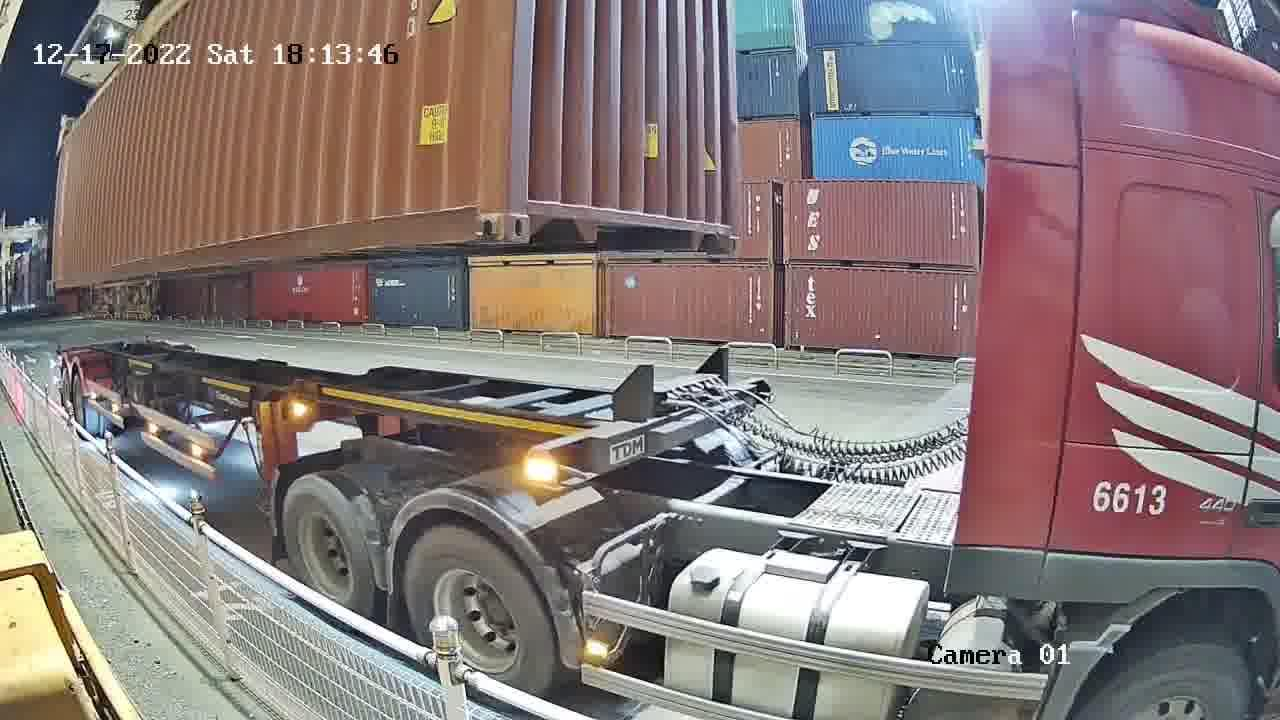Chassis: (525, 381, 775, 500)
Container: (507, 184, 747, 257)
Hole_L: (508, 180, 555, 244)
Hole_R: (453, 179, 511, 245), (714, 210, 742, 254)
Tire: (410, 534, 565, 703), (283, 482, 377, 617)
